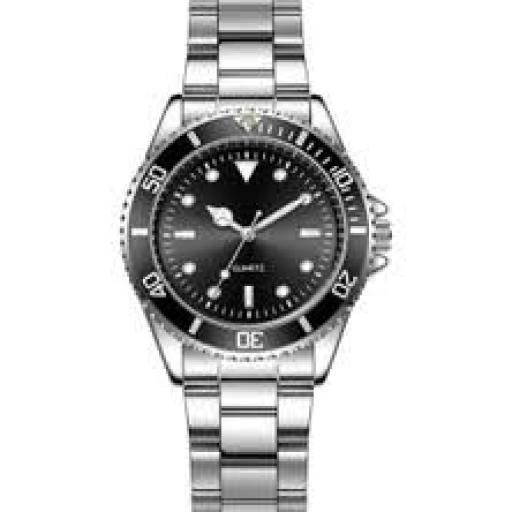KolSaati: (83, 2, 417, 512)
